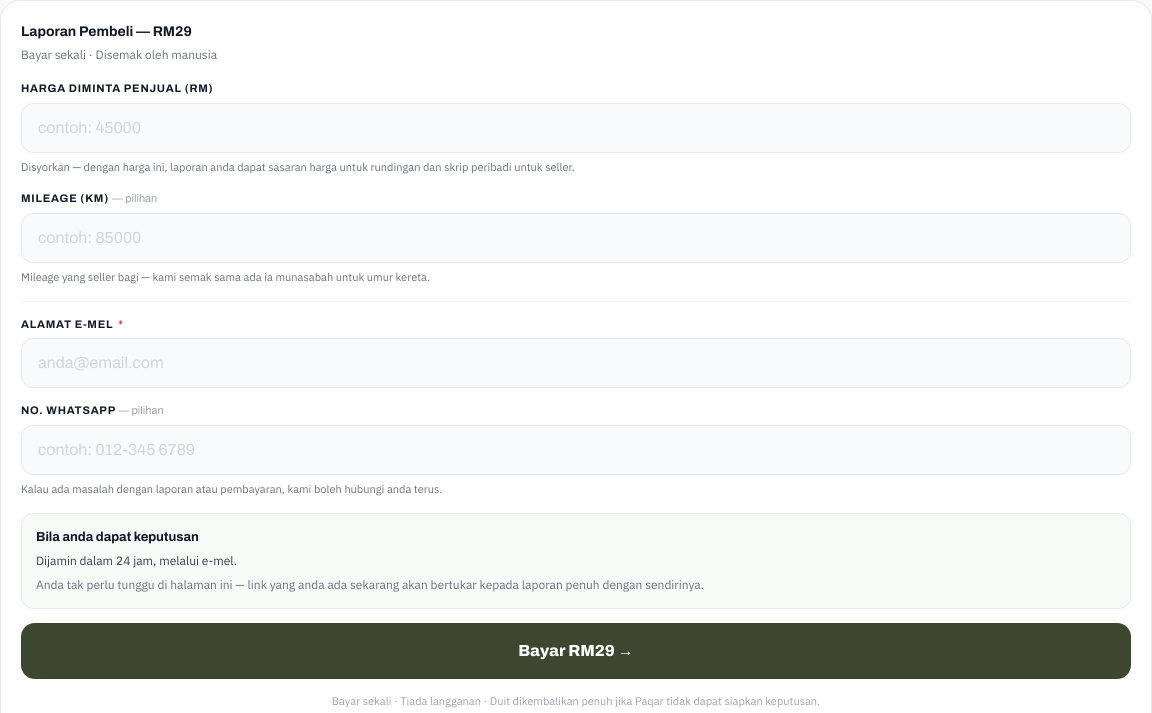
an implausible mileage is questioned, not swallowed › names the likely typo for 700,000 km
The image size is (1152, 713).
Type "700000" into the number field labelled "Mileage (km) — pilihan". click: (576, 238)
box: [21,213,1131,263]
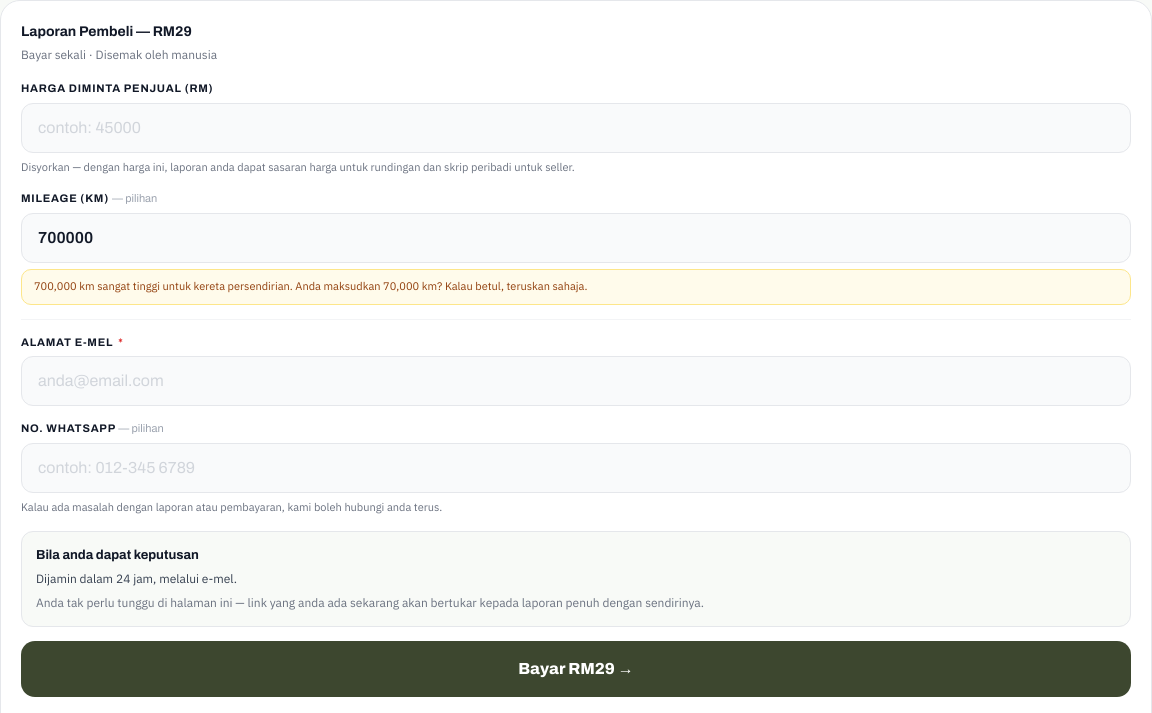
Check: the text "70,000 km" is shown, box [34,279,588,293]
